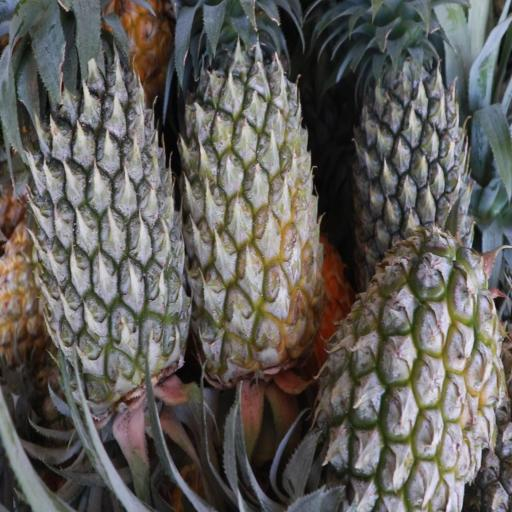------------------------------: (184, 12, 319, 368), (324, 250, 499, 512)
Pineapple - v8 v1: (0, 228, 51, 366)
